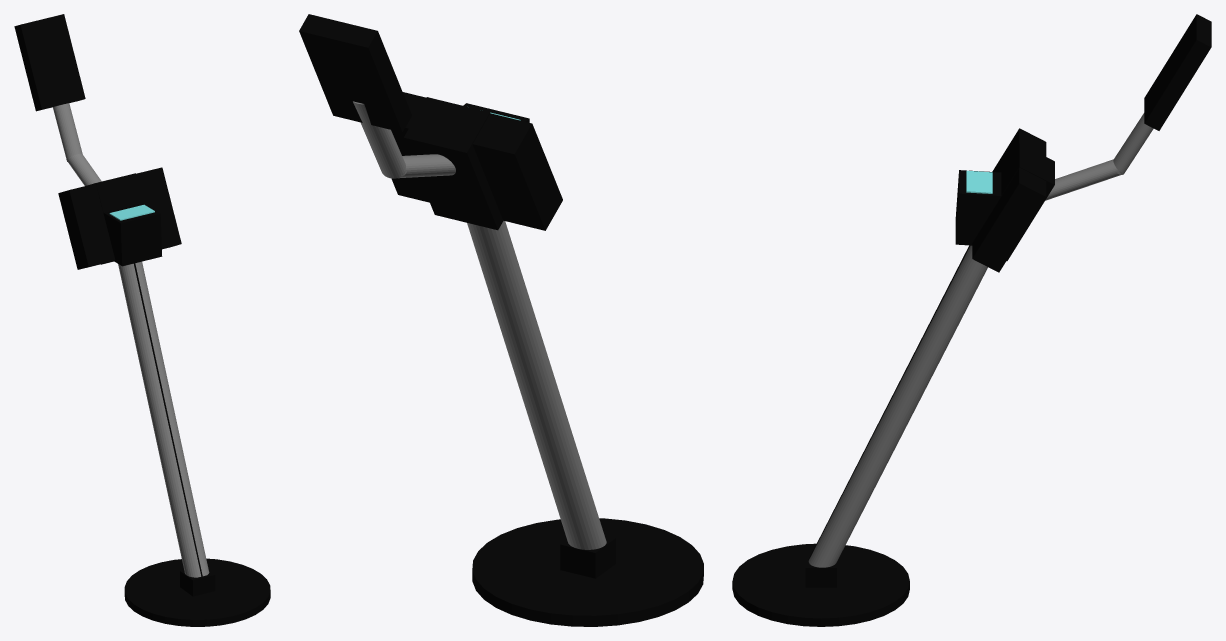
The model's file is metaldetector.fbx.
The picture shows the model from 3 angles, left to right: view 1: azimuth 30°, elevation 25°; view 2: azimuth 150°, elevation 25°; view 3: azimuth 270°, elevation 25°; orthographic projection. The views are drawn at different scales.
Visible parts, largest first — view 1: Cylinder.001, Cylinder, Cube.005, Cube.003, Cube.004, Cube.002, Cube.001, Cylinder.003, Cylinder.004, Cube, Cylinder.002, Cube.006; view 2: Cylinder, Cylinder.001, Cube.005, Cube.001, Cube.003, Cylinder.003, Cube, Cube.002, Cylinder.002; view 3: Cylinder, Cylinder.001, Cube.002, Cube.005, Cube.004, Cube.001, Cylinder.002, Cylinder.003, Cube.003, Cube.
Boxes of the visible parts, <box> form: Cylinder.001: <box>118,261,209,577</box>; Cylinder: <box>124,558,270,626</box>; Cube.005: <box>14,14,85,111</box>; Cube.003: <box>58,183,115,269</box>; Cube.004: <box>103,203,162,266</box>; Cube.002: <box>136,167,181,249</box>; Cube.001: <box>86,173,143,264</box>; Cylinder.003: <box>53,103,82,161</box>; Cylinder.004: <box>134,263,202,576</box>; Cube: <box>180,570,215,596</box>; Cylinder.002: <box>66,154,101,185</box>; Cube.006: <box>109,204,154,220</box>; Cylinder: <box>472,518,703,626</box>; Cylinder.001: <box>467,221,606,549</box>; Cube.005: <box>299,14,411,132</box>; Cube.001: <box>403,97,503,230</box>; Cube.003: <box>472,113,562,230</box>; Cylinder.003: <box>353,101,406,178</box>; Cube: <box>560,535,615,578</box>; Cube.002: <box>391,92,429,202</box>; Cylinder.002: <box>398,154,455,178</box>; Cylinder: <box>732,543,909,626</box>; Cylinder.001: <box>808,245,987,567</box>; Cube.002: <box>972,167,1046,272</box>; Cube.005: <box>1144,14,1211,130</box>; Cube.004: <box>955,170,1001,245</box>; Cube.001: <box>972,143,1054,260</box>; Cylinder.002: <box>1045,159,1121,200</box>; Cylinder.003: <box>1113,113,1153,174</box>; Cube.003: <box>992,128,1046,172</box>; Cube: <box>805,554,836,587</box>.
Bounding box in the file's own units: 579 × 2025 × 1564.
